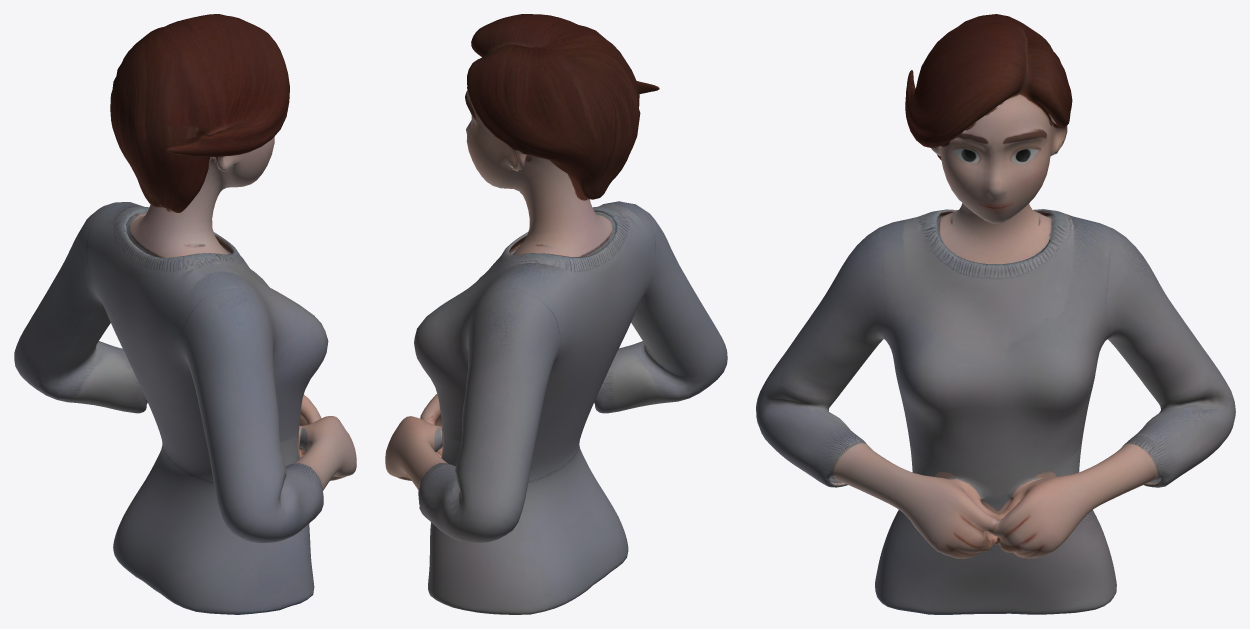
The model's file is suspect_3.glb.
3 views of the same model, side by side, from view 1: azimuth 30°, elevation 25°; view 2: azimuth 150°, elevation 25°; view 3: azimuth 270°, elevation 25° (orthographic).
Visible parts, largest first — view 1: tripo_node_5262b4d8-82bc-478c-9d56-9ccfba5921f2; view 2: tripo_node_5262b4d8-82bc-478c-9d56-9ccfba5921f2; view 3: tripo_node_5262b4d8-82bc-478c-9d56-9ccfba5921f2.
Part boxes in pixels (left/top/right/bottom): tripo_node_5262b4d8-82bc-478c-9d56-9ccfba5921f2: left=14, top=14, right=356, bottom=614; tripo_node_5262b4d8-82bc-478c-9d56-9ccfba5921f2: left=385, top=14, right=727, bottom=614; tripo_node_5262b4d8-82bc-478c-9d56-9ccfba5921f2: left=756, top=14, right=1235, bottom=614.
Bounding box in the file's own units: 0.4045 × 0.9992 × 0.7868.
Materials: 1 (1 with a texture image).
